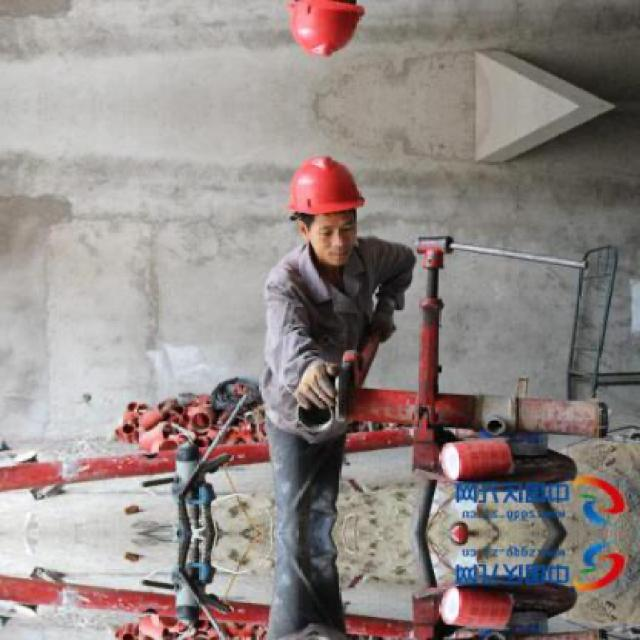con casco: (259, 118, 374, 274)
